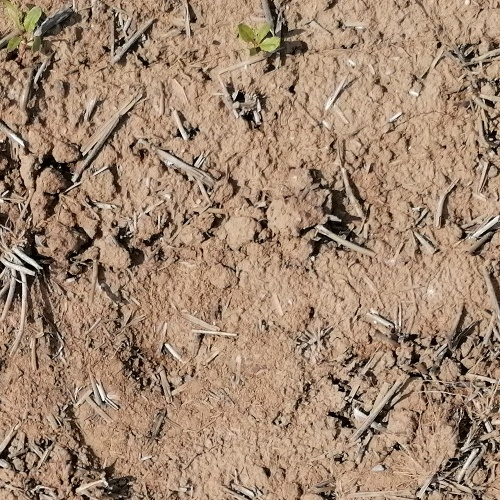beet: (0, 0, 42, 54), (236, 22, 280, 57)
